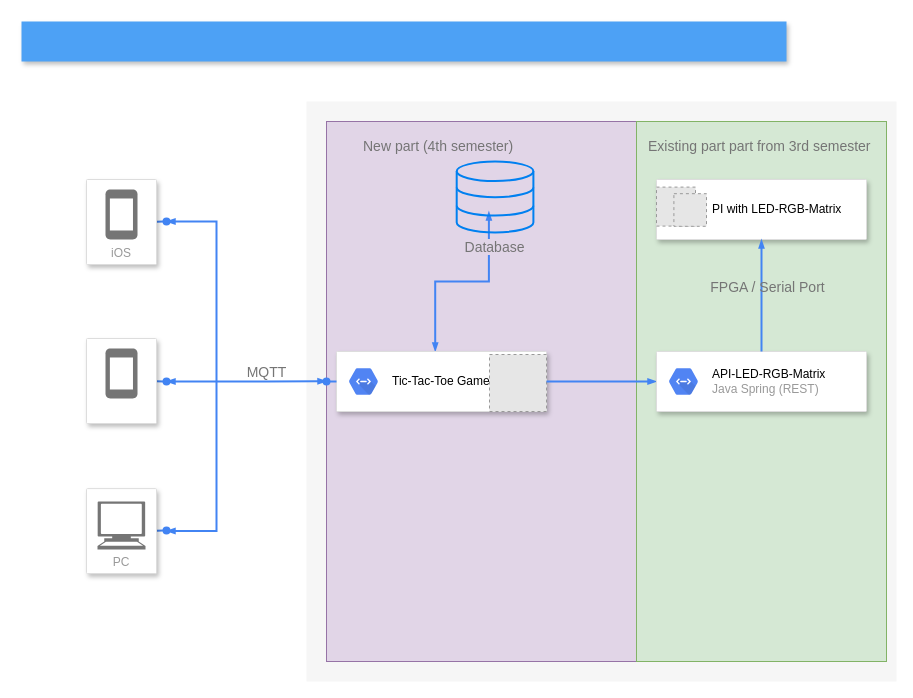
Image size: 913x698. Some labels were removed from this diagram. Grey dashed boxes stand in for pictures. The shapes that lost their labels are listed below. From the top down, each one's centre as x and y in pixels, then its label:
[404,42]: Architecture: Mockup > Semesterarbeit
[122,382]: Android
